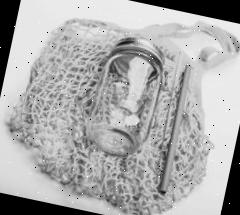glass: (84, 32, 169, 162)
